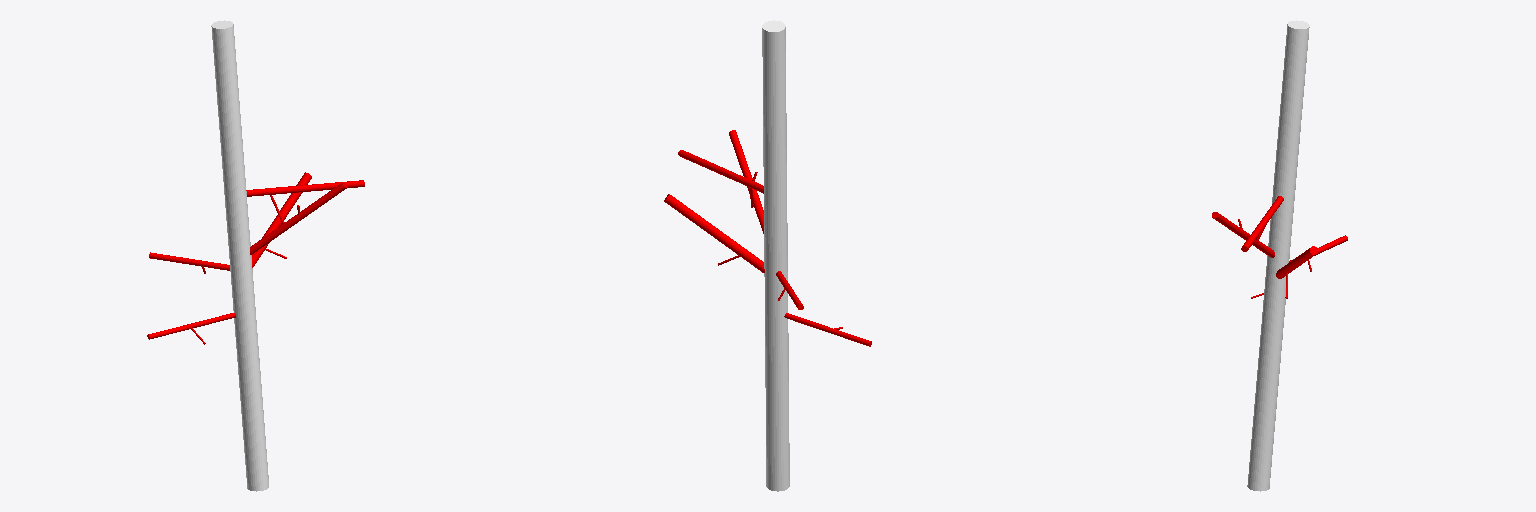
URDF robot description (tree_141.urdf):
<?xml version='1.0' encoding='UTF-8'?>
<robot name="tree_141.urdf">
  <link name="branch_0">
    <inertial>
      <origin xyz="0.0 0.0 0.0" rpy="0.0 -0.0 0.0"/>
      <mass value="0.1"/>
      <inertia ixx="0.001" ixy="0.0" ixz="0.0" iyy="0.001" iyz="0.0" izz="0.001"/>
    </inertial>
    <visual name="branch_0_visual">
      <geometry>
        <cylinder radius="0.16903163981835123" length="7.598846697934932"/>
      </geometry>
      <material name="branch_material"/>
      <origin xyz="-0.14003953898800423 0.302279977944228 3.7847897599646427" rpy="0.0 0.08779526031237377 2.004636871926975"/>
    </visual>
    <collision name="branch_0_collision">
      <geometry>
        <cylinder radius="0.16903163981835123" length="7.598846697934932"/>
      </geometry>
      <origin xyz="-0.14003953898800423 0.302279977944228 3.7847897599646427" rpy="0.0 0.08779526031237377 2.004636871926975"/>
    </collision>
  </link>
  <link name="branch_1">
    <inertial>
      <origin xyz="0.0 0.0 0.0" rpy="0.0 -0.0 0.0"/>
      <mass value="0.1"/>
      <inertia ixx="0.001" ixy="0.0" ixz="0.0" iyy="0.001" iyz="0.0" izz="0.001"/>
    </inertial>
    <visual name="branch_1_visual">
      <geometry>
        <cylinder radius="0.05634240892134918" length="2.0634947320263506"/>
      </geometry>
      <material name="semantic_material"/>
      <origin xyz="0.0 0.0 0.0" rpy="0.0 -0.0 0.0"/>
    </visual>
    <collision name="branch_1_collision">
      <geometry>
        <cylinder radius="0.05634240892134918" length="2.0634947320263506"/>
      </geometry>
      <origin xyz="0.0 0.0 0.0" rpy="0.0 -0.0 0.0"/>
    </collision>
  </link>
  <link name="branch_2">
    <inertial>
      <origin xyz="0.0 0.0 0.0" rpy="0.0 -0.0 0.0"/>
      <mass value="0.1"/>
      <inertia ixx="0.001" ixy="0.0" ixz="0.0" iyy="0.001" iyz="0.0" izz="0.001"/>
    </inertial>
    <visual name="branch_2_visual">
      <geometry>
        <cylinder radius="0.017799961331309462" length="0.237101381145928"/>
      </geometry>
      <material name="semantic_material"/>
      <origin xyz="0.0 0.0 0.0" rpy="0.0 -0.0 0.0"/>
    </visual>
    <collision name="branch_2_collision">
      <geometry>
        <cylinder radius="0.017799961331309462" length="0.237101381145928"/>
      </geometry>
      <origin xyz="0.0 0.0 0.0" rpy="0.0 -0.0 0.0"/>
    </collision>
  </link>
  <link name="branch_3">
    <inertial>
      <origin xyz="0.0 0.0 0.0" rpy="0.0 -0.0 0.0"/>
      <mass value="0.1"/>
      <inertia ixx="0.001" ixy="0.0" ixz="0.0" iyy="0.001" iyz="0.0" izz="0.001"/>
    </inertial>
    <visual name="branch_3_visual">
      <geometry>
        <cylinder radius="0.05239639378118128" length="1.9976651080212229"/>
      </geometry>
      <material name="semantic_material"/>
      <origin xyz="0.0 0.0 0.0" rpy="0.0 -0.0 0.0"/>
    </visual>
    <collision name="branch_3_collision">
      <geometry>
        <cylinder radius="0.05239639378118128" length="1.9976651080212229"/>
      </geometry>
      <origin xyz="0.0 0.0 0.0" rpy="0.0 -0.0 0.0"/>
    </collision>
  </link>
  <link name="branch_4">
    <inertial>
      <origin xyz="0.0 0.0 0.0" rpy="0.0 -0.0 0.0"/>
      <mass value="0.1"/>
      <inertia ixx="0.001" ixy="0.0" ixz="0.0" iyy="0.001" iyz="0.0" izz="0.001"/>
    </inertial>
    <visual name="branch_4_visual">
      <geometry>
        <cylinder radius="0.01916932503477527" length="0.5720496491322633"/>
      </geometry>
      <material name="semantic_material"/>
      <origin xyz="0.0 0.0 0.0" rpy="0.0 -0.0 0.0"/>
    </visual>
    <collision name="branch_4_collision">
      <geometry>
        <cylinder radius="0.01916932503477527" length="0.5720496491322633"/>
      </geometry>
      <origin xyz="0.0 0.0 0.0" rpy="0.0 -0.0 0.0"/>
    </collision>
  </link>
  <link name="branch_5">
    <inertial>
      <origin xyz="0.0 0.0 0.0" rpy="0.0 -0.0 0.0"/>
      <mass value="0.1"/>
      <inertia ixx="0.001" ixy="0.0" ixz="0.0" iyy="0.001" iyz="0.0" izz="0.001"/>
    </inertial>
    <visual name="branch_5_visual">
      <geometry>
        <cylinder radius="0.06738848197594706" length="1.952856755687913"/>
      </geometry>
      <material name="semantic_material"/>
      <origin xyz="0.0 0.0 0.0" rpy="0.0 -0.0 0.0"/>
    </visual>
    <collision name="branch_5_collision">
      <geometry>
        <cylinder radius="0.06738848197594706" length="1.952856755687913"/>
      </geometry>
      <origin xyz="0.0 0.0 0.0" rpy="0.0 -0.0 0.0"/>
    </collision>
  </link>
  <link name="branch_6">
    <inertial>
      <origin xyz="0.0 0.0 0.0" rpy="0.0 -0.0 0.0"/>
      <mass value="0.1"/>
      <inertia ixx="0.001" ixy="0.0" ixz="0.0" iyy="0.001" iyz="0.0" izz="0.001"/>
    </inertial>
    <visual name="branch_6_visual">
      <geometry>
        <cylinder radius="0.016327109445344205" length="0.5215031715101691"/>
      </geometry>
      <material name="semantic_material"/>
      <origin xyz="0.0 0.0 0.0" rpy="0.0 -0.0 0.0"/>
    </visual>
    <collision name="branch_6_collision">
      <geometry>
        <cylinder radius="0.016327109445344205" length="0.5215031715101691"/>
      </geometry>
      <origin xyz="0.0 0.0 0.0" rpy="0.0 -0.0 0.0"/>
    </collision>
  </link>
  <link name="branch_7">
    <inertial>
      <origin xyz="0.0 0.0 0.0" rpy="0.0 -0.0 0.0"/>
      <mass value="0.1"/>
      <inertia ixx="0.001" ixy="0.0" ixz="0.0" iyy="0.001" iyz="0.0" izz="0.001"/>
    </inertial>
    <visual name="branch_7_visual">
      <geometry>
        <cylinder radius="0.045361586567232104" length="1.448009195019237"/>
      </geometry>
      <material name="semantic_material"/>
      <origin xyz="0.0 0.0 0.0" rpy="0.0 -0.0 0.0"/>
    </visual>
    <collision name="branch_7_collision">
      <geometry>
        <cylinder radius="0.045361586567232104" length="1.448009195019237"/>
      </geometry>
      <origin xyz="0.0 0.0 0.0" rpy="0.0 -0.0 0.0"/>
    </collision>
  </link>
  <link name="branch_8">
    <inertial>
      <origin xyz="0.0 0.0 0.0" rpy="0.0 -0.0 0.0"/>
      <mass value="0.1"/>
      <inertia ixx="0.001" ixy="0.0" ixz="0.0" iyy="0.001" iyz="0.0" izz="0.001"/>
    </inertial>
    <visual name="branch_8_visual">
      <geometry>
        <cylinder radius="0.015496259386589054" length="0.2504207943078042"/>
      </geometry>
      <material name="semantic_material"/>
      <origin xyz="0.0 0.0 0.0" rpy="0.0 -0.0 0.0"/>
    </visual>
    <collision name="branch_8_collision">
      <geometry>
        <cylinder radius="0.015496259386589054" length="0.2504207943078042"/>
      </geometry>
      <origin xyz="0.0 0.0 0.0" rpy="0.0 -0.0 0.0"/>
    </collision>
  </link>
  <link name="branch_9">
    <inertial>
      <origin xyz="0.0 0.0 0.0" rpy="0.0 -0.0 0.0"/>
      <mass value="0.1"/>
      <inertia ixx="0.001" ixy="0.0" ixz="0.0" iyy="0.001" iyz="0.0" izz="0.001"/>
    </inertial>
    <visual name="branch_9_visual">
      <geometry>
        <cylinder radius="0.03998118931777607" length="1.6287324767138114"/>
      </geometry>
      <material name="semantic_material"/>
      <origin xyz="0.0 0.0 0.0" rpy="0.0 -0.0 0.0"/>
    </visual>
    <collision name="branch_9_collision">
      <geometry>
        <cylinder radius="0.03998118931777607" length="1.6287324767138114"/>
      </geometry>
      <origin xyz="0.0 0.0 0.0" rpy="0.0 -0.0 0.0"/>
    </collision>
  </link>
  <link name="branch_10">
    <inertial>
      <origin xyz="0.0 0.0 0.0" rpy="0.0 -0.0 0.0"/>
      <mass value="0.1"/>
      <inertia ixx="0.001" ixy="0.0" ixz="0.0" iyy="0.001" iyz="0.0" izz="0.001"/>
    </inertial>
    <visual name="branch_10_visual">
      <geometry>
        <cylinder radius="0.01464544493536032" length="0.42696289010592553"/>
      </geometry>
      <material name="semantic_material"/>
      <origin xyz="0.0 0.0 0.0" rpy="0.0 -0.0 0.0"/>
    </visual>
    <collision name="branch_10_collision">
      <geometry>
        <cylinder radius="0.01464544493536032" length="0.42696289010592553"/>
      </geometry>
      <origin xyz="0.0 0.0 0.0" rpy="0.0 -0.0 0.0"/>
    </collision>
  </link>
  <joint name="joint_0_1" type="fixed">
    <parent link="branch_0"/>
    <child link="branch_1"/>
    <axis xyz="1. 0. 0."/>
    <origin xyz="0.49896709118753574 -0.17855028278688526 4.404331674908055" rpy="-0.06158851500158771 0.8810648139951822 -0.7229820151695265"/>
  </joint>
  <joint name="joint_0_3" type="fixed">
    <parent link="branch_0"/>
    <child link="branch_3"/>
    <axis xyz="1. 0. 0."/>
    <origin xyz="0.7764003834275641 0.08623283457616758 4.780969491702924" rpy="-1.7471856651630346 1.5045345153317662 -2.0482538689449354"/>
  </joint>
  <joint name="joint_0_5" type="fixed">
    <parent link="branch_0"/>
    <child link="branch_5"/>
    <axis xyz="1. 0. 0."/>
    <origin xyz="0.6178478990335816 0.5551607602464 4.008635205858293" rpy="-0.1489570775740784 0.9454314444694936 0.17654138941088734"/>
  </joint>
  <joint name="joint_0_7" type="fixed">
    <parent link="branch_0"/>
    <child link="branch_7"/>
    <axis xyz="1. 0. 0."/>
    <origin xyz="-0.6353722528235694 0.8035770491600243 3.5876966257951652" rpy="0.6380363056248041 1.5218734615921963 2.979523956091751"/>
  </joint>
  <joint name="joint_0_9" type="fixed">
    <parent link="branch_0"/>
    <child link="branch_9"/>
    <axis xyz="1. 0. 0."/>
    <origin xyz="-0.9171465072548575 0.28584650741368534 2.8194125737769173" rpy="2.1466100398497003 1.4792644196364064 -1.067565716977027"/>
  </joint>
  <joint name="joint_1_2" type="fixed">
    <parent link="branch_0"/>
    <child link="branch_2"/>
    <axis xyz="1. 0. 0."/>
    <origin xyz="0.5544399529952938 -0.26747190871549076 4.599222059861031" rpy="-0.3105650464088557 0.10114515316768162 2.731512452837494"/>
  </joint>
  <joint name="joint_3_4" type="fixed">
    <parent link="branch_0"/>
    <child link="branch_4"/>
    <axis xyz="1. 0. 0."/>
    <origin xyz="0.38339704645994727 0.09763299701991013 4.5385684713177055" rpy="-2.7149483487564994 0.31076604363514615 2.983242131035982"/>
  </joint>
  <joint name="joint_5_6" type="fixed">
    <parent link="branch_0"/>
    <child link="branch_6"/>
    <axis xyz="1. 0. 0."/>
    <origin xyz="0.5230537538574196 0.42983662759739116 3.630401866441197" rpy="-2.6613859202413845 0.9251318055845902 -2.5947111094580975"/>
  </joint>
  <joint name="joint_7_8" type="fixed">
    <parent link="branch_0"/>
    <child link="branch_8"/>
    <axis xyz="1. 0. 0."/>
    <origin xyz="-0.5183069851441894 0.7668255260725069 3.4735124213115607" rpy="-2.652154638856246 -0.0588596849096224 -0.8528977326410203"/>
  </joint>
  <joint name="joint_9_10" type="fixed">
    <parent link="branch_0"/>
    <child link="branch_10"/>
    <axis xyz="1. 0. 0."/>
    <origin xyz="-1.0144255557714392 0.0914620583195359 2.747537551482227" rpy="1.8876140405566302 -0.08878410136092978 0.04678458579301469"/>
  </joint>
  <material name="branch_material">
    <color rgba="1. 1. 1. 1."/>
  </material>
  <material name="semantic_material">
    <color rgba="1. 0. 0. 1."/>
  </material>
</robot>

--- Facts derived from the render (not from the file) ---
Views: 3 orthographic renders of the robot side by side, from view 1: azimuth 30°, elevation 25°; view 2: azimuth 150°, elevation 25°; view 3: azimuth 270°, elevation 25°.
Robot: tree_141.urdf — 11 links, 10 joints (10 fixed); root link branch_0; default pose: every joint at zero.
Links seen in each view (by area): view 1: branch_0, branch_1, branch_3, branch_5; view 2: branch_0, branch_5, branch_3, branch_1; view 3: branch_0.
Boxes of the visible links, <box> form: branch_0: <box>211,20,268,491</box>; branch_1: <box>250,182,346,254</box>; branch_3: <box>246,180,364,196</box>; branch_5: <box>252,172,311,267</box>; branch_0: <box>762,20,789,491</box>; branch_5: <box>664,194,764,272</box>; branch_3: <box>678,150,763,193</box>; branch_1: <box>729,130,763,233</box>; branch_0: <box>1247,20,1309,491</box>.
Size in the robot's own frame: 3.48 by 2.06 by 7.6 metres.
Geometry: primitives only (box / cylinder / sphere), no mesh files.